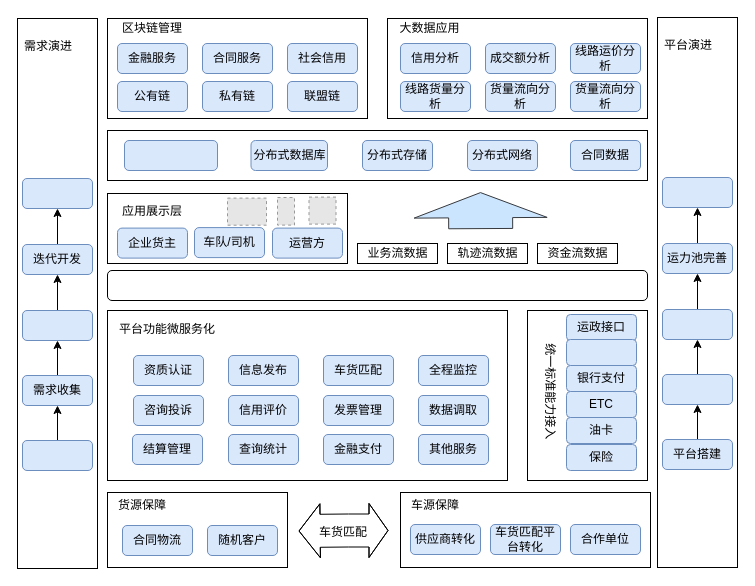
This 755x586 diagram has some shape labels left out. Grey dashed boxes stand in for pictures. The shapes that lost their labels are listed below. From the top down, each one's box as (x1, y1, x2, y2) in pixels, then its label:
(124, 140, 218, 170): 分布式计算平台
(22, 178, 92, 208): 功能上线
(662, 176, 732, 208): 智慧运营
(106, 270, 648, 300): API能力开放
(22, 310, 92, 340): 需求确认
(662, 308, 732, 340): 集团推广
(566, 338, 636, 366): 财辅接口
(662, 374, 732, 404): 自有业务上线
(22, 440, 92, 470): 虚拟团队
